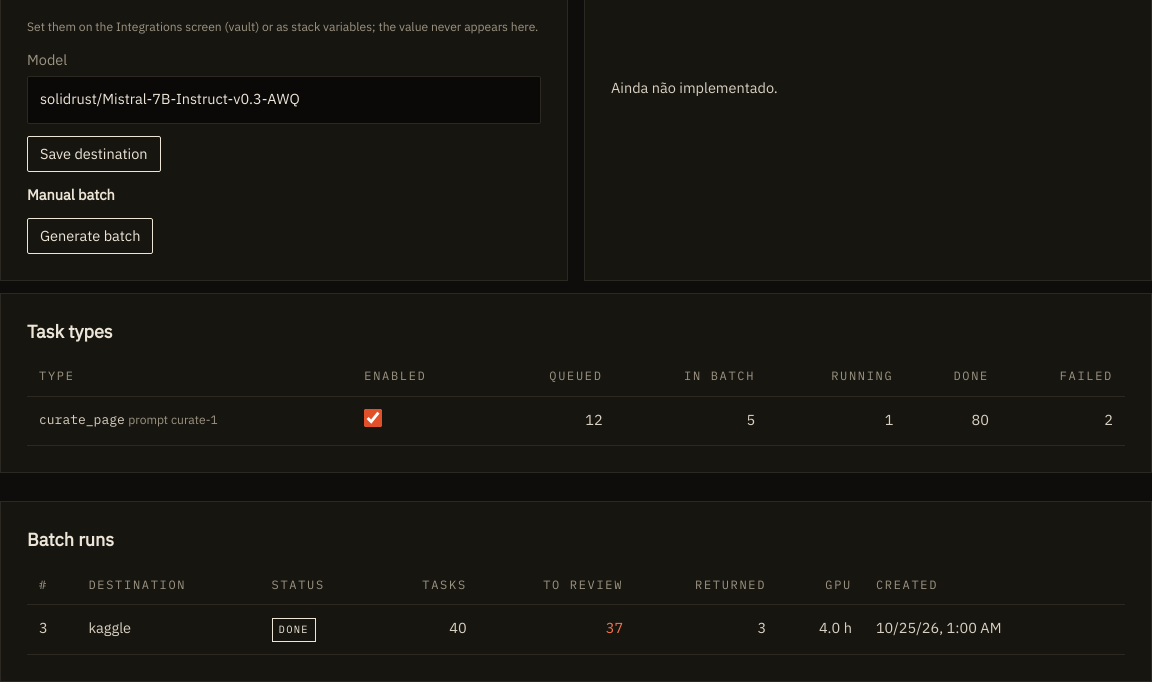
Test: Compute panel › desativa um tipo de tarefa e mostra o erro do servidor
(page scrolled)
Click the checkbox named "Enable curate_page" at [373, 418], box [364,409,382,427]
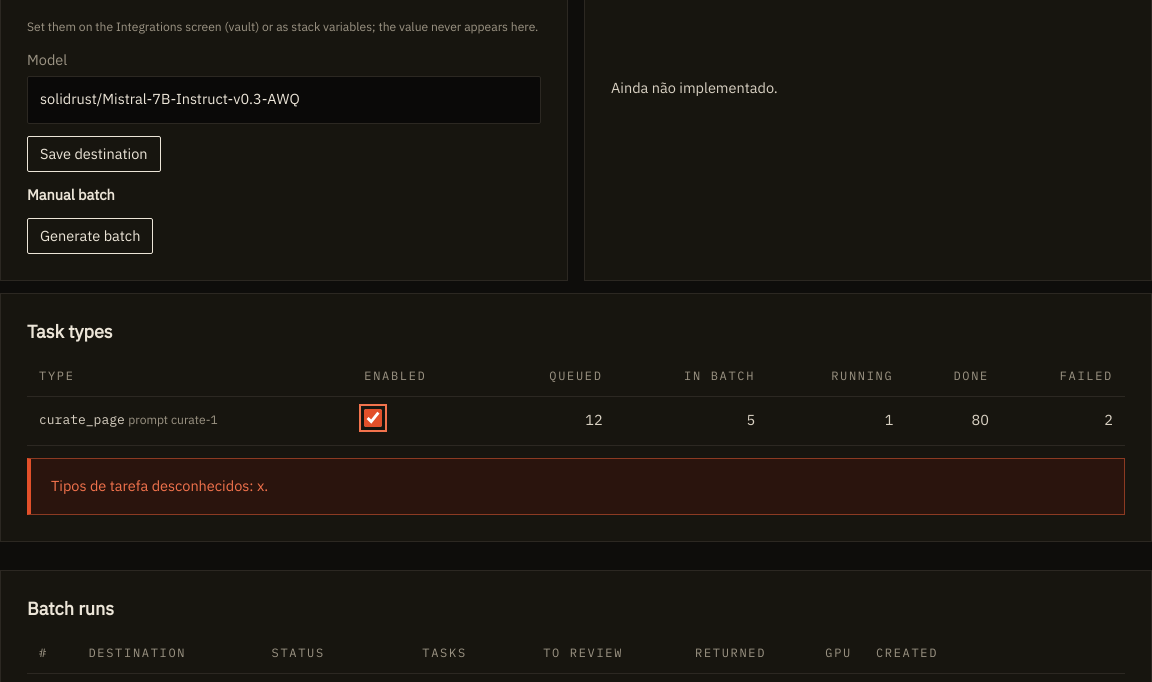
Check: the text "Tipos de tarefa desconhecidos: x." is shown, box [27,458,1125,515]
